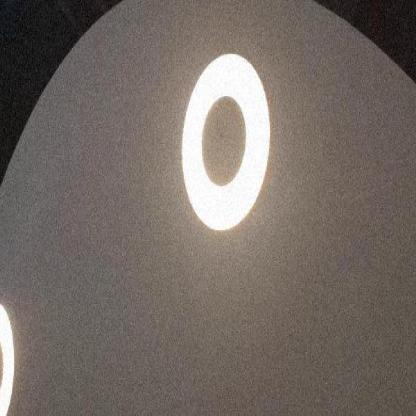light_on: (175, 40, 279, 242), (0, 287, 18, 415)
